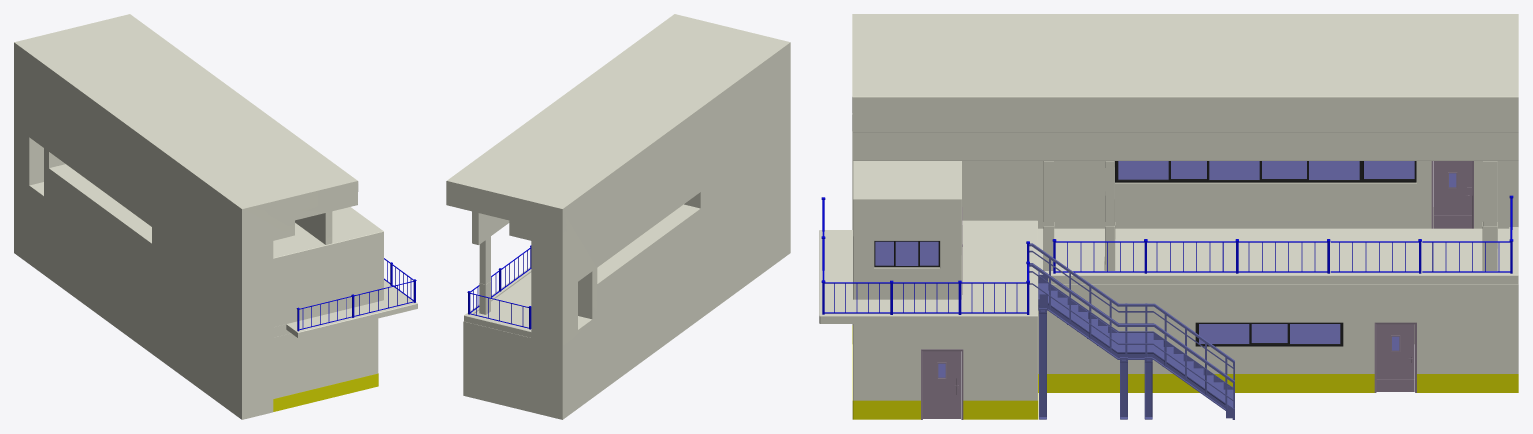
Rendered from Office_GRP.fbx.
3 renders of one model, left to right at view 1: azimuth 30°, elevation 25°; view 2: azimuth 150°, elevation 25°; view 3: azimuth 270°, elevation 25°, orthographic. The views are drawn at different scales.
Parts seen in each view (by area): view 1: office_Building_05, office_Building_04, office_Building_06, office_Building_01, office_Building_02, kickGuard_wall_01, fence_02, fence_01; view 2: office_Building_05, office_Building_04, office_Building_03, office_Building_02, office_Building_08, fence_02, office_Building_09, fence_01; view 3: office_Building_05, office_Building_02, office_Building_07, office_Building_06, office_Building_01, kickGuard_wall_01, office_windows_glass_02, office_doors_01, fence_02, Office_Stair_Steps_01, Office_Stair_Railing_04, office_Building_08 (+11 smaller).
Part boxes in pixels (bbox=[...]): office_Building_05: bbox=[14, 14, 358, 345]; office_Building_04: bbox=[14, 179, 273, 419]; office_Building_06: bbox=[273, 207, 383, 327]; office_Building_01: bbox=[273, 318, 378, 398]; office_Building_02: bbox=[273, 280, 417, 337]; kickGuard_wall_01: bbox=[273, 373, 378, 411]; fence_02: bbox=[299, 258, 413, 329]; fence_01: bbox=[302, 262, 411, 328]; office_Building_05: bbox=[446, 14, 790, 345]; office_Building_04: bbox=[531, 179, 790, 419]; office_Building_03: bbox=[466, 322, 531, 411]; office_Building_02: bbox=[464, 267, 531, 337]; office_Building_08: bbox=[479, 236, 490, 284]; fence_02: bbox=[469, 247, 531, 328]; office_Building_09: bbox=[479, 281, 490, 314]; fence_01: bbox=[473, 251, 527, 326]; office_Building_05: bbox=[852, 14, 1518, 229]; office_Building_02: bbox=[819, 220, 1518, 323]; office_Building_07: bbox=[1038, 284, 1518, 373]; office_Building_06: bbox=[853, 161, 961, 299]; office_Building_01: bbox=[853, 324, 1037, 400]; kickGuard_wall_01: bbox=[852, 325, 1518, 419]; office_windows_glass_02: bbox=[875, 161, 1414, 343]; office_doors_01: bbox=[923, 161, 1471, 406]; fence_02: bbox=[822, 198, 1512, 313]; Office_Stair_Steps_01: bbox=[1038, 283, 1233, 407]; Office_Stair_Railing_04: bbox=[1038, 271, 1234, 419]; office_Building_08: bbox=[1043, 161, 1497, 226].
Size of the model in its own units: 751 by 917 by 1887.
